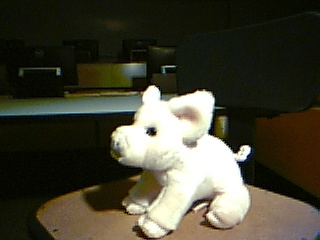piggy: (108, 84, 255, 240)
